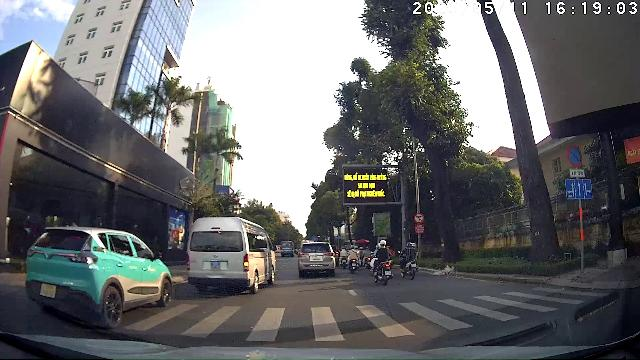131a-cam-do-xe: (566, 144, 582, 167)
137-cam-re-trai-va-re-phai: (413, 213, 424, 224)
